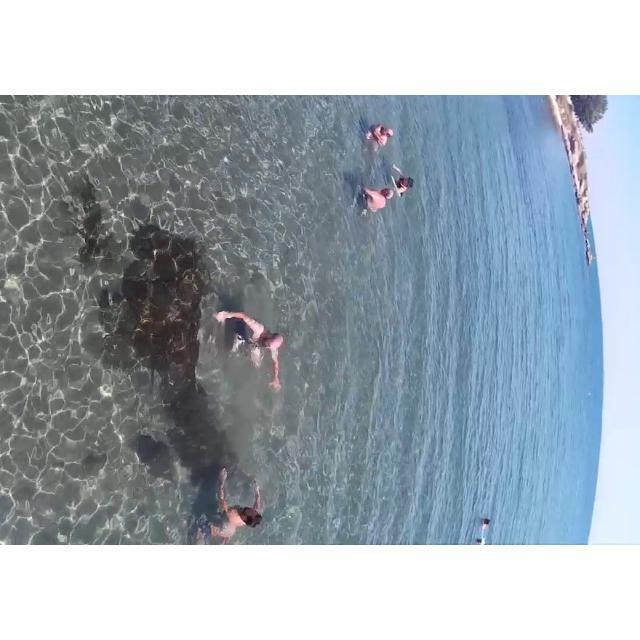human: (218, 290, 281, 410), (361, 176, 391, 228), (386, 166, 419, 200), (367, 120, 396, 155)
